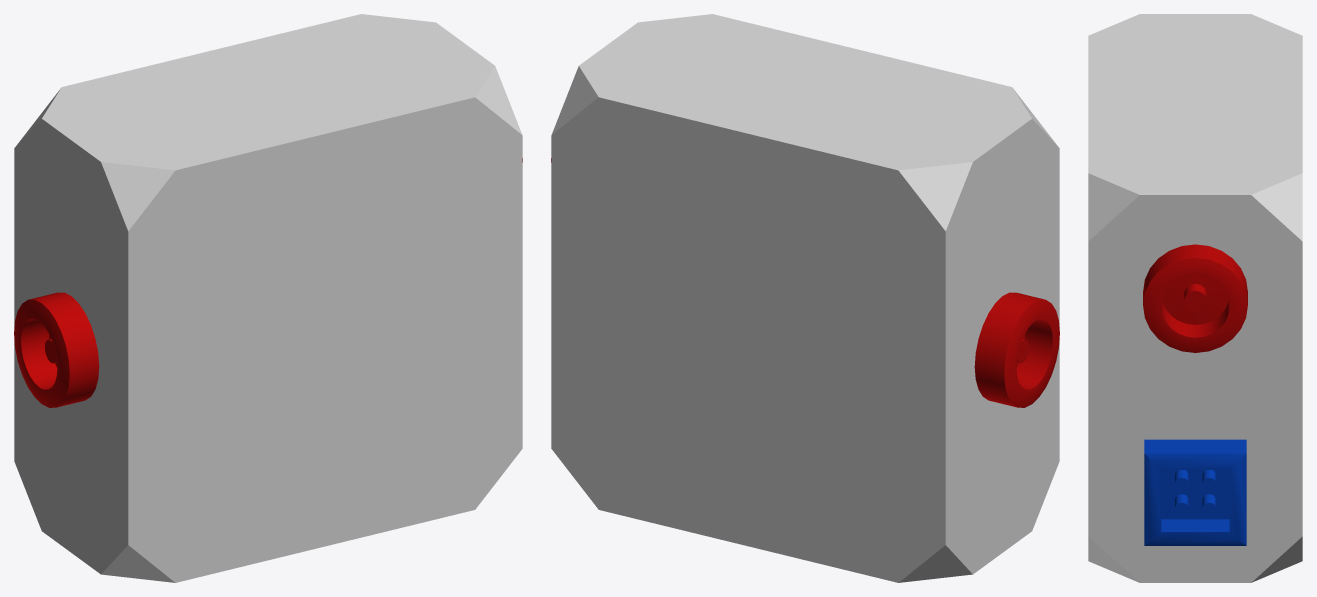
The model's file is LowVoltageRelay.gltf.
3 views of the same model, side by side, from view 1: azimuth 30°, elevation 25°; view 2: azimuth 150°, elevation 25°; view 3: azimuth 270°, elevation 25° (orthographic). The views are drawn at different scales.
Visible parts, largest first — view 1: base; view 2: base; view 3: base.
Boxes of the visible parts, x1,y1,x2,y2 form: base: [14, 14, 522, 582]; base: [551, 14, 1059, 582]; base: [1088, 14, 1302, 582].
Bounding box in the file's own units: 0.291 × 0.25 × 0.125.
